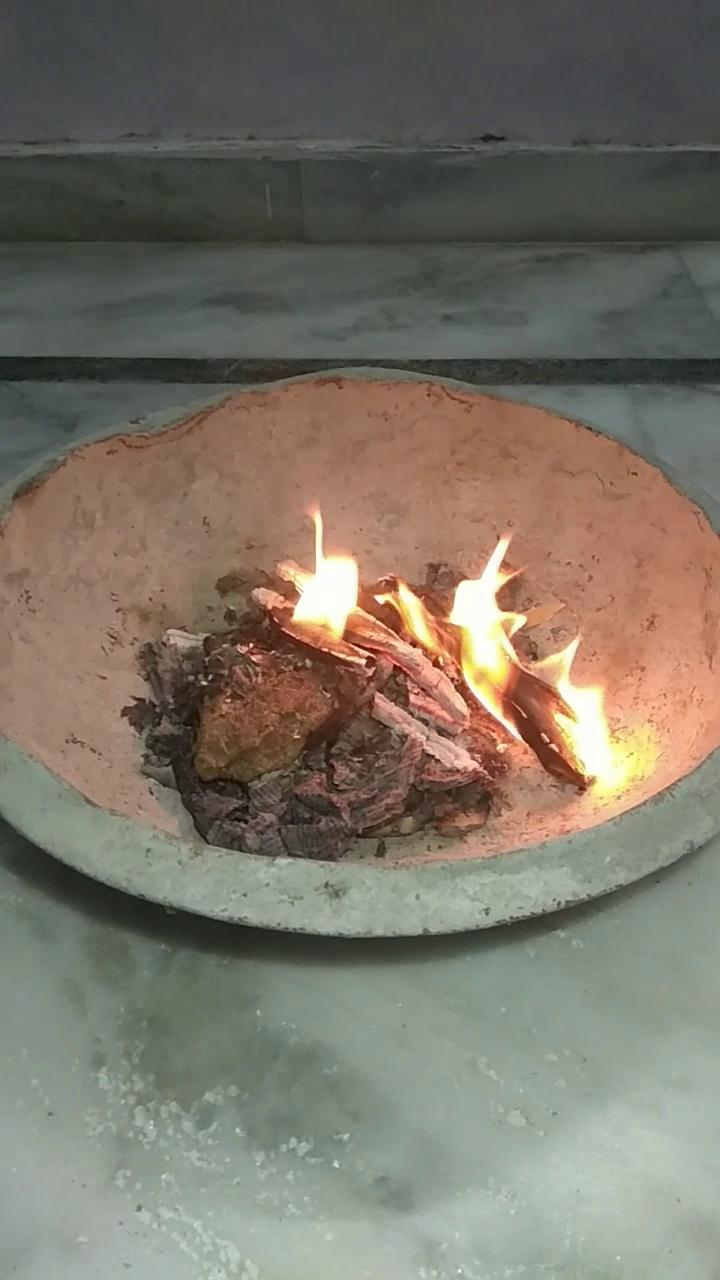fire: (273, 504, 601, 774)
